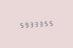five: (17, 21, 21, 29), (42, 19, 46, 27), (47, 19, 51, 26)
nine: (22, 20, 26, 28)
three: (27, 20, 31, 28), (37, 19, 41, 27), (32, 20, 36, 27)
